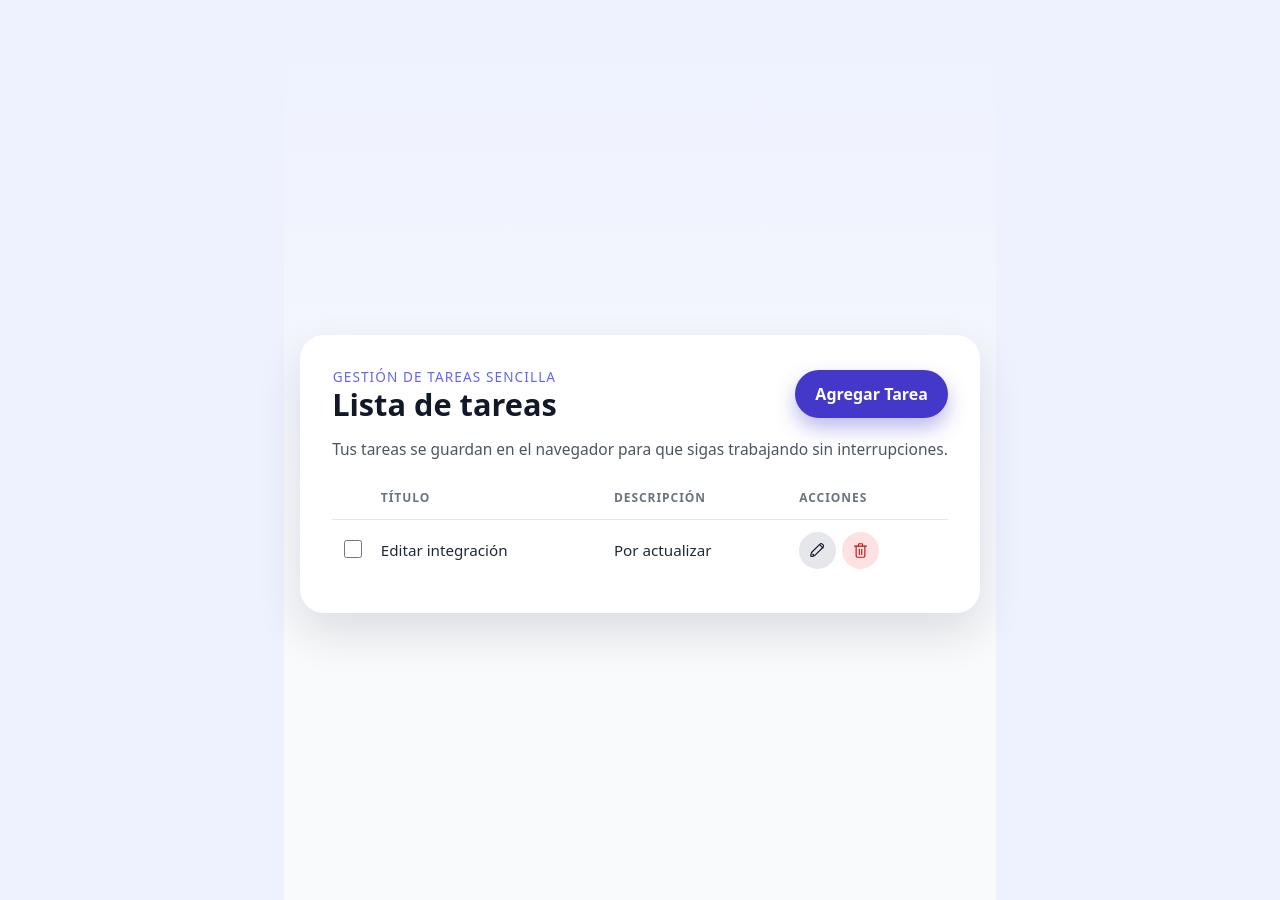
Test: Flujo completo de tareas (integración) › edita una tarea existente mostrando los cambios en la tabla
Click the 1st button named "editar" at (818, 550), box [799,532,836,569]
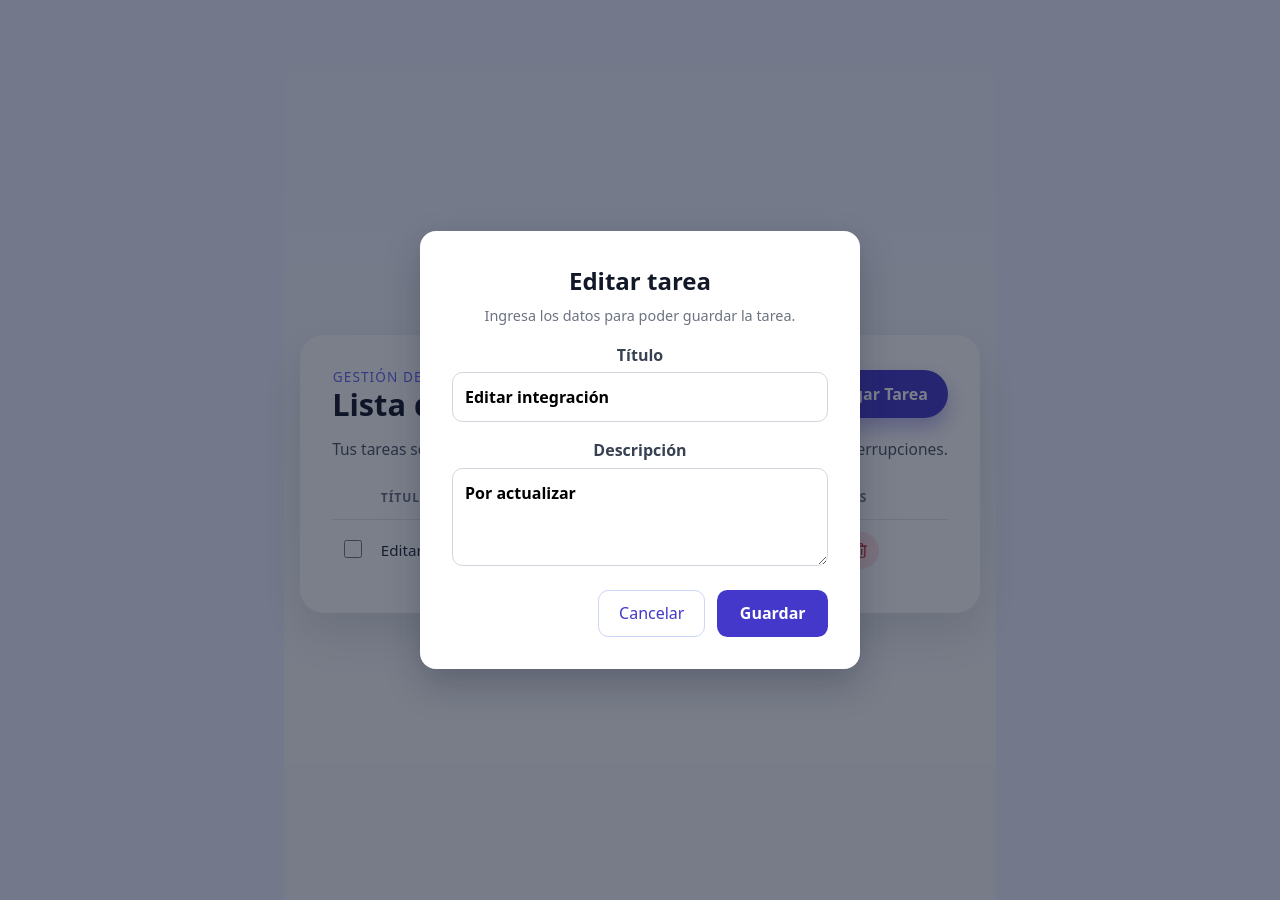
Replace the text in the field labelled "Título" with "Editar integración completa" at (640, 397), box [452,372,828,422]
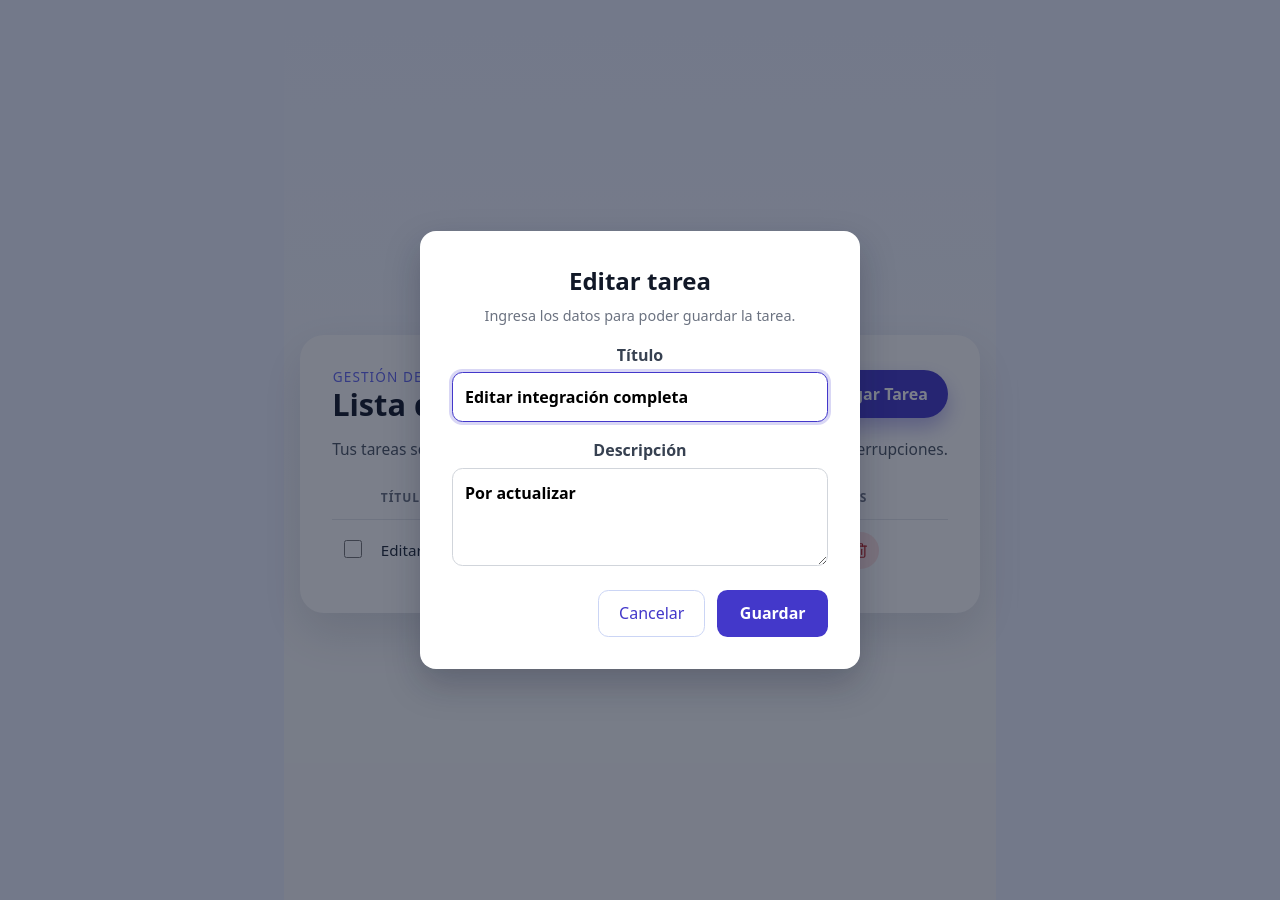
Click the button "Guardar" at (773, 613), box [718,590,828,637]
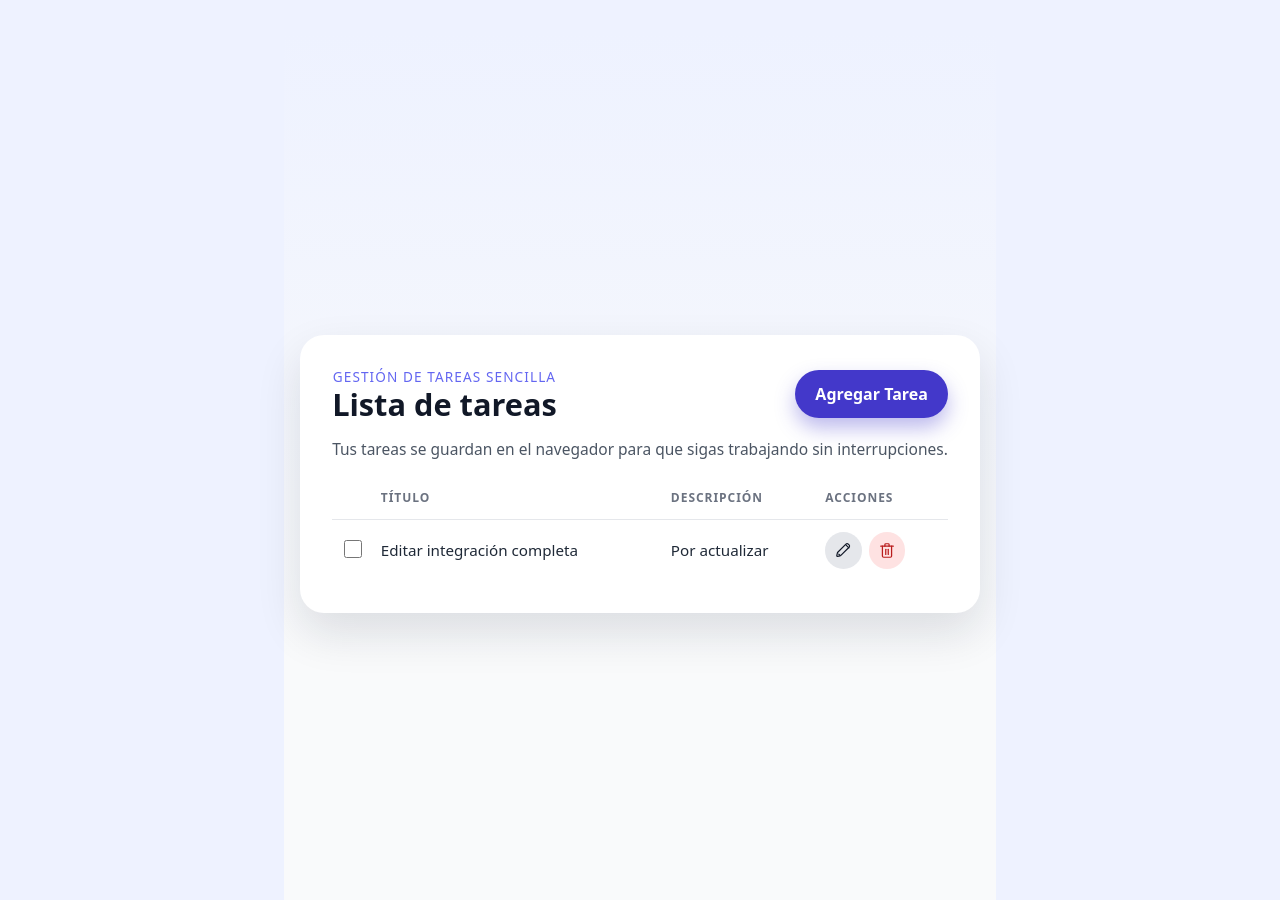
Now the text "Editar integración completa" is shown, box [373,519,663,581]
